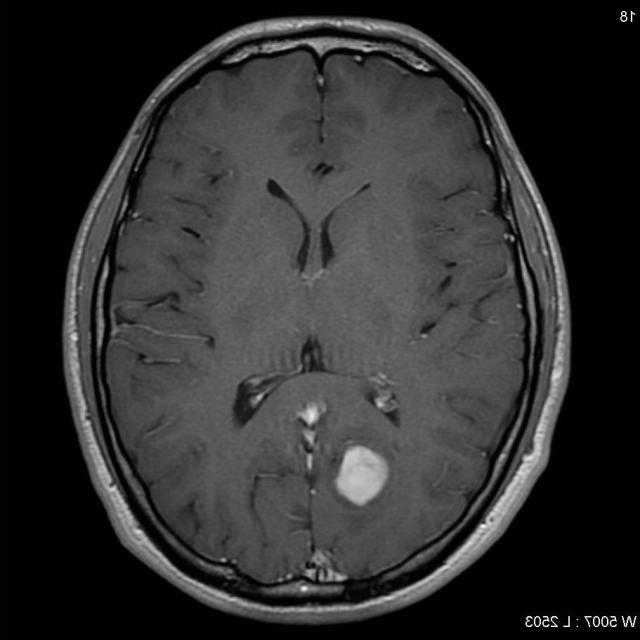Tumor-Cell: (325, 427, 398, 513)
